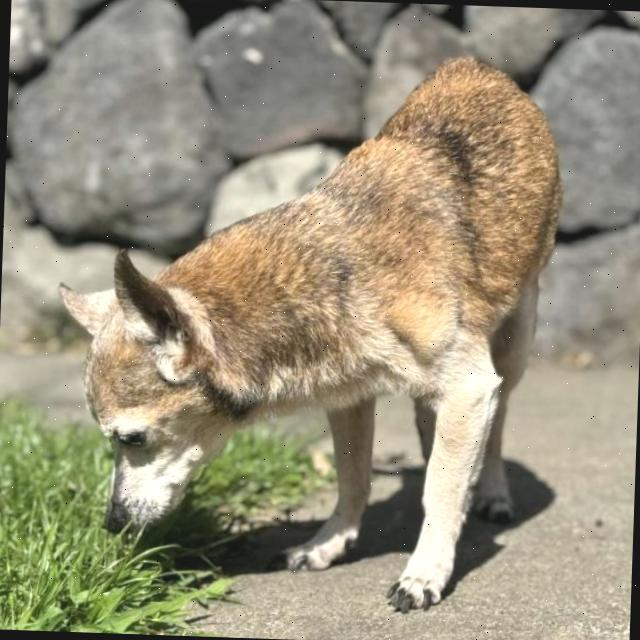chihuahua_dog: (42, 232, 264, 556)
